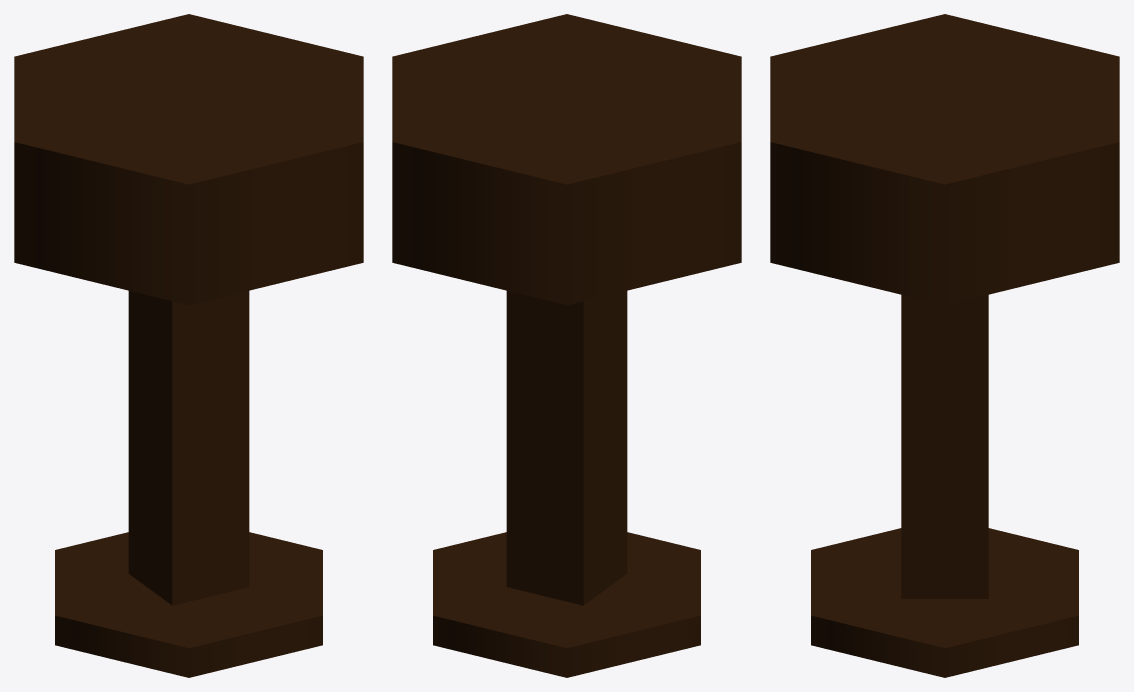
The model's file is barszek.FBX.
3 renders of one model, left to right at view 1: azimuth 30°, elevation 25°; view 2: azimuth 150°, elevation 25°; view 3: azimuth 270°, elevation 25°, orthographic.
Visible parts, largest first — view 1: barszek; view 2: barszek; view 3: barszek.
Part boxes in pixels (bbox=[...]): barszek: bbox=[14, 14, 363, 677]; barszek: bbox=[392, 14, 741, 677]; barszek: bbox=[770, 14, 1119, 677].
Bounding box in the file's own units: 92.29 × 129 × 79.93.
